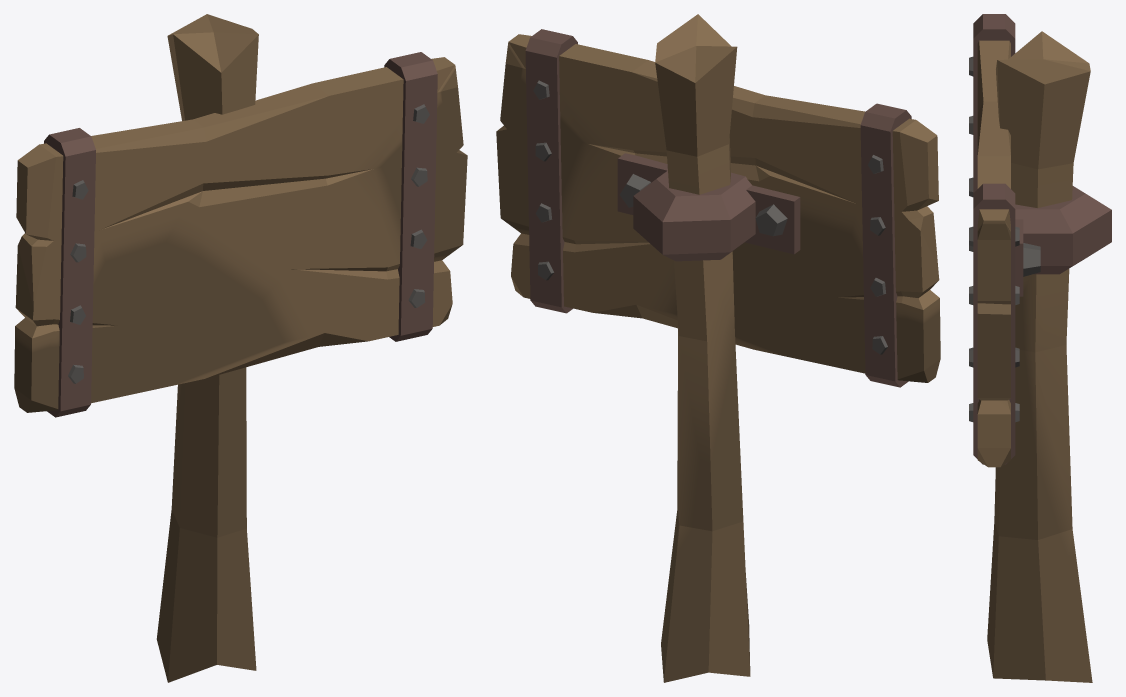
The model's file is SM_Prop_Sign_Post_03.fbx.
3 renders of one model, left to right at view 1: azimuth 30°, elevation 25°; view 2: azimuth 150°, elevation 25°; view 3: azimuth 270°, elevation 25°, orthographic. The views are drawn at different scales.
Visible parts, largest first — view 1: SM_Prop_Sign_Post_03; view 2: SM_Prop_Sign_Post_03; view 3: SM_Prop_Sign_Post_03.
Part boxes in pixels (x1,y1,x2,y2): SM_Prop_Sign_Post_03: (14, 14, 467, 682); SM_Prop_Sign_Post_03: (496, 14, 940, 682); SM_Prop_Sign_Post_03: (969, 14, 1111, 682).
Bounding box in the file's own units: 96.96 × 136 × 27.94.
